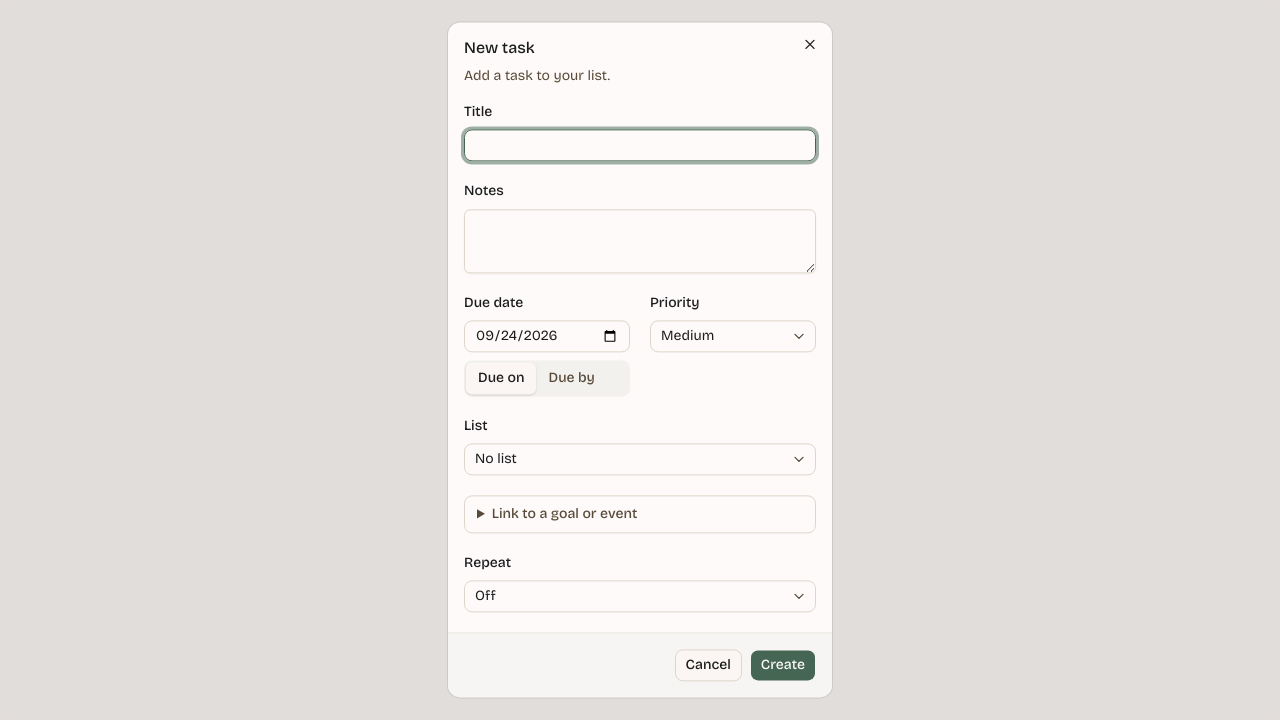
Test: TaskDialog › opens the disclosure when the server rejects a link
Type "Long run" into the field labelled "Title" at (640, 146), box [464,130,816,162]
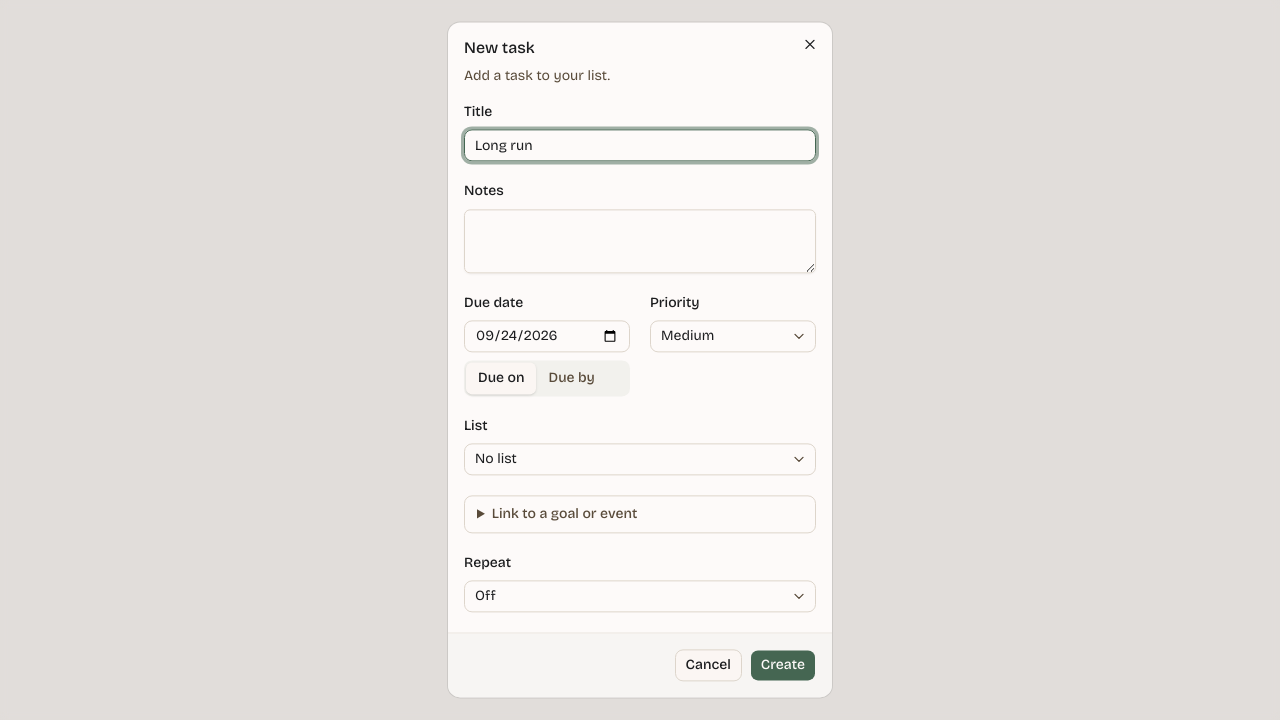
Click the button "Create" at (783, 666), box [750,650,816,682]
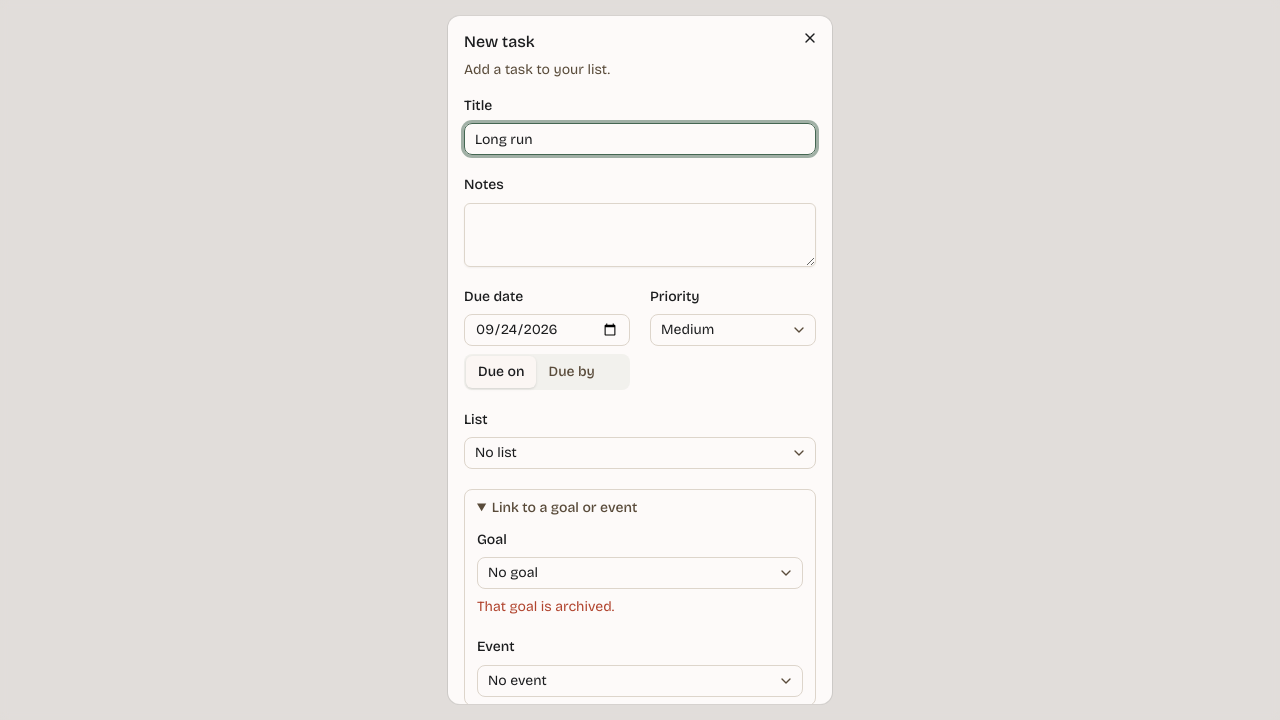
Now the text "That goal is archived." is shown, box [477,598,614,615]
Now the dropdown labelled "goal" is shown, box [477,557,803,589]
